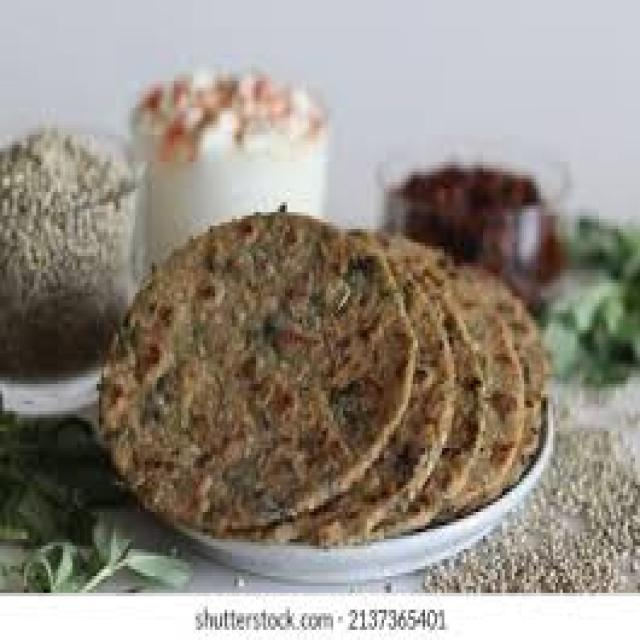ROTI: (94, 212, 546, 542)
